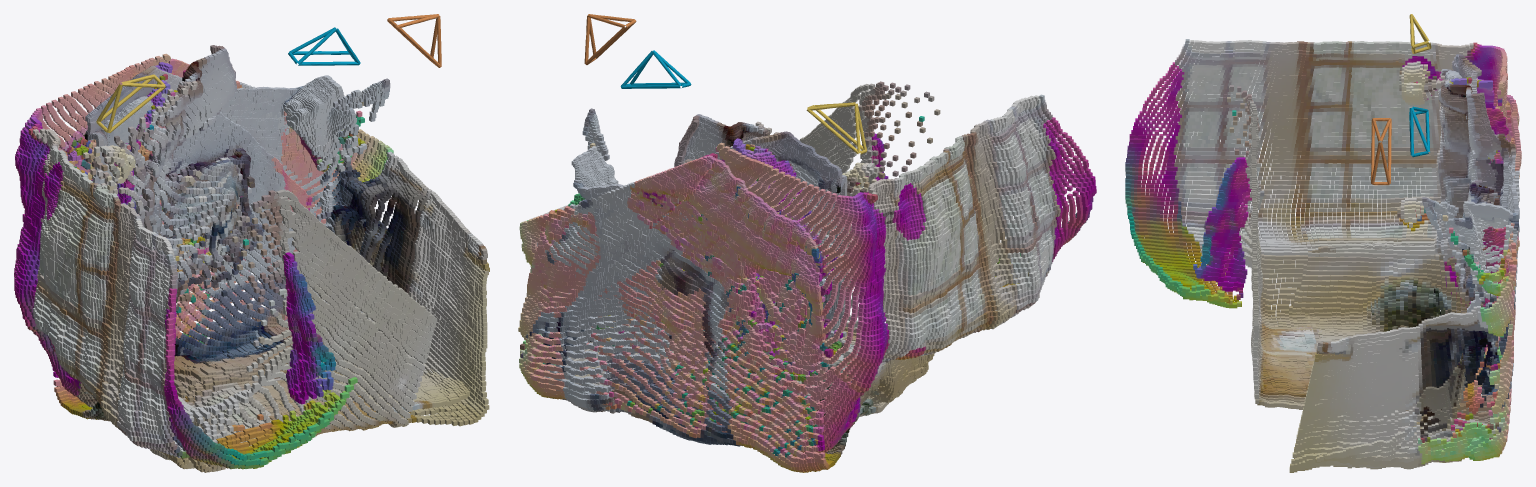
File: pred-compressed.glb
3 views of the same model, side by side, from view 1: azimuth 30°, elevation 25°; view 2: azimuth 150°, elevation 25°; view 3: azimuth 270°, elevation 25° (orthographic). The views are drawn at different scales.
Size of the model in its own units: 5.32 by 4.5 by 4.75.
